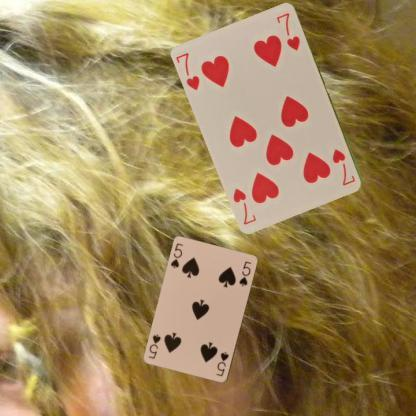5s: (214, 349, 230, 378), (168, 241, 184, 270)
7h: (174, 50, 202, 92), (330, 146, 357, 187)
